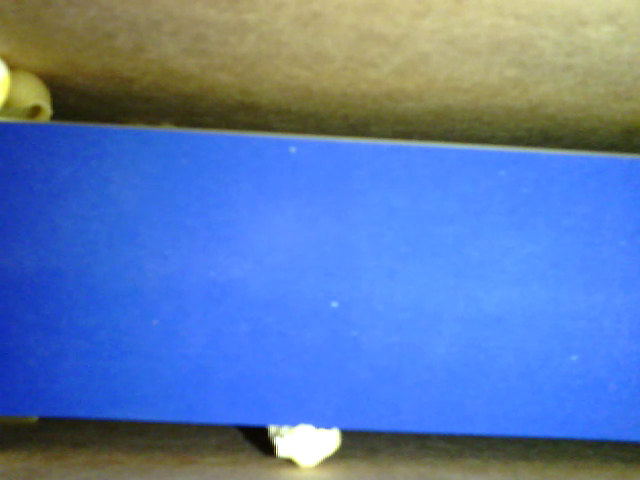shell: (3, 66, 57, 126)
